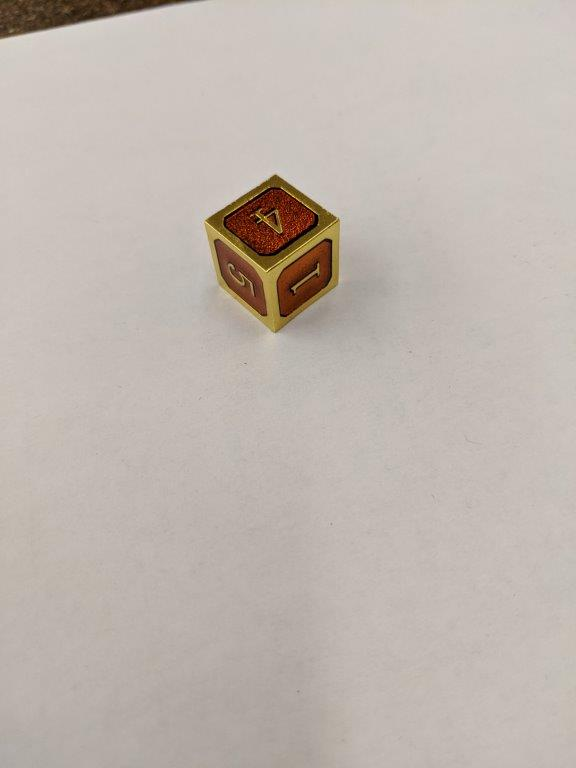d6-4: (205, 173, 341, 333)
